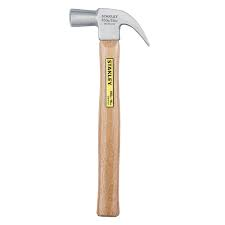martillu: (67, 4, 152, 217)
